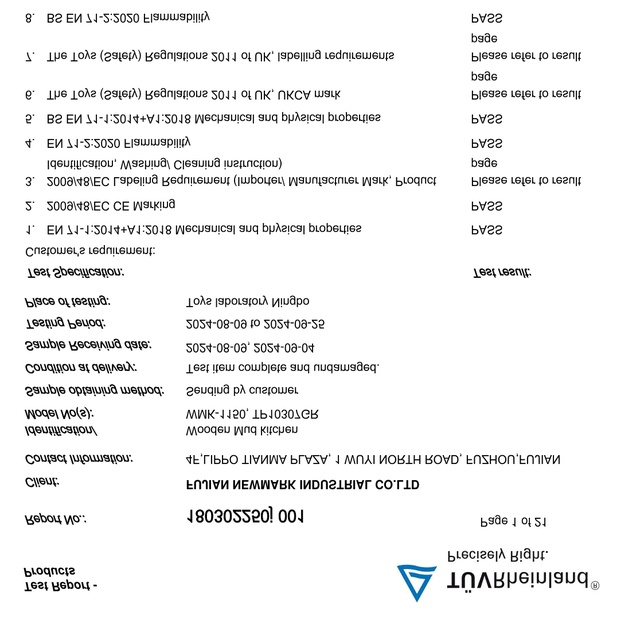tuv_rheinland: (393, 562, 603, 603)
